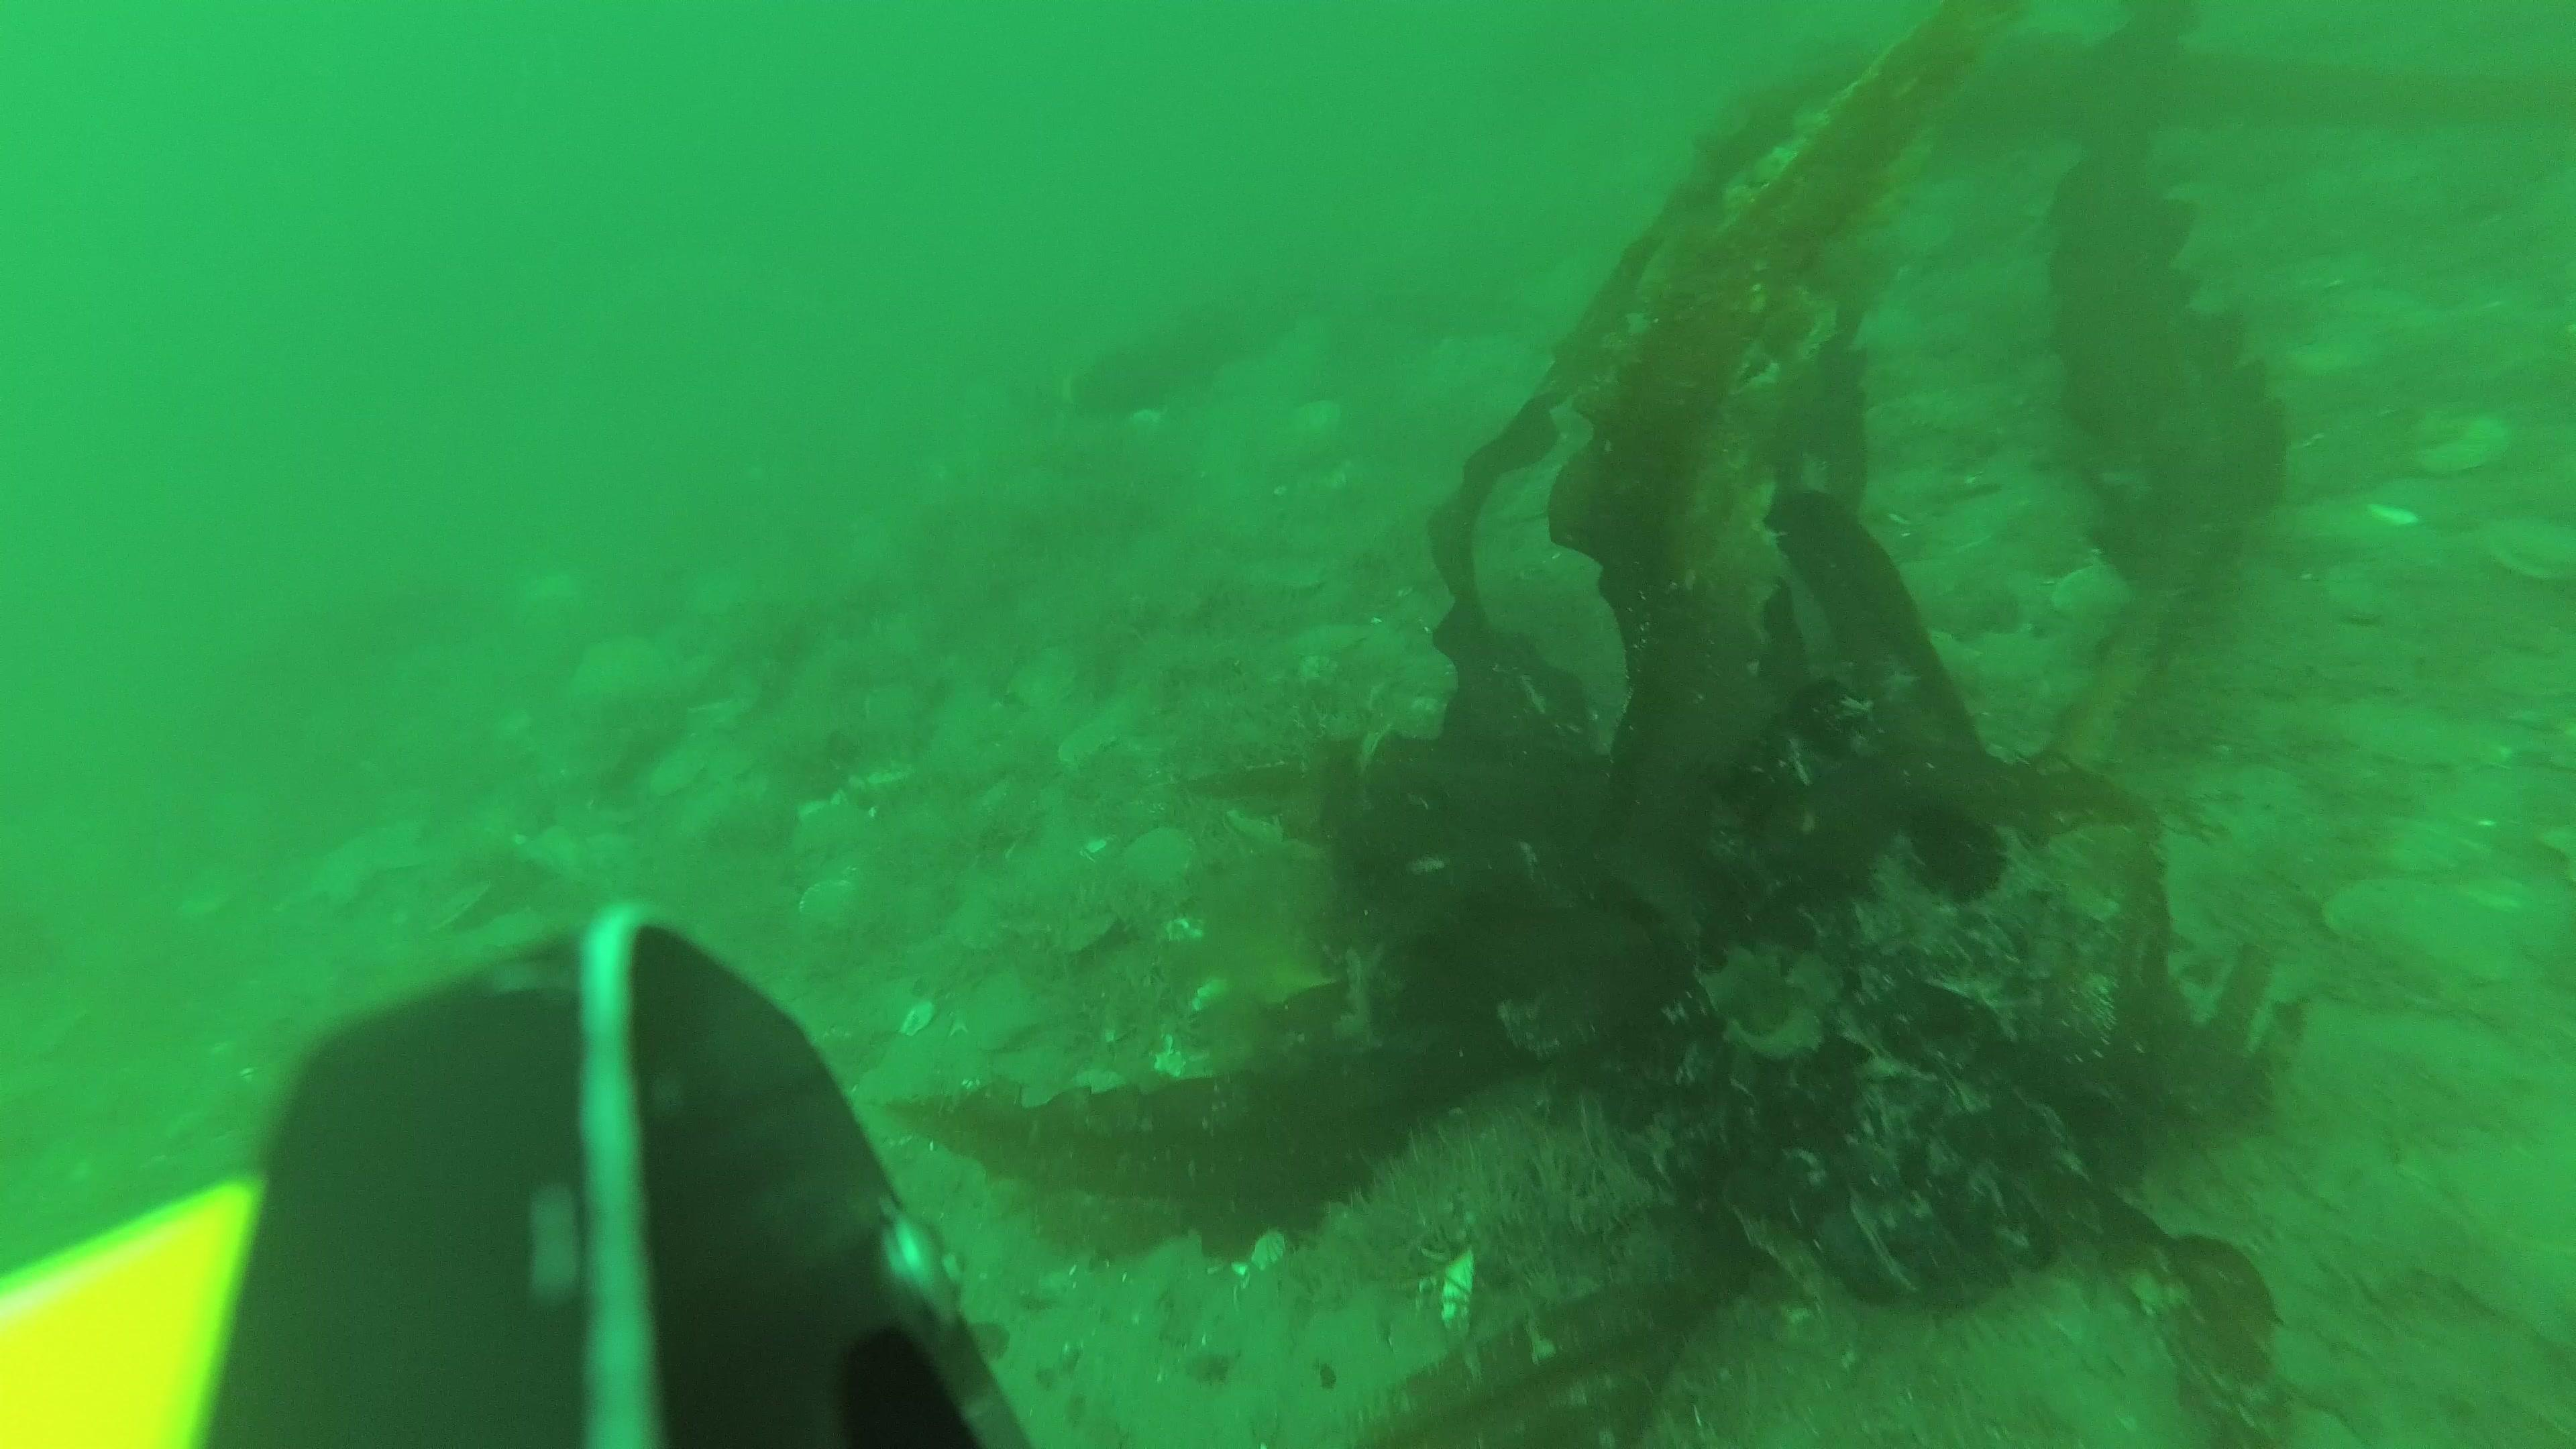scallop: (2330, 872, 2544, 998), (1108, 828, 1205, 934), (2413, 410, 2528, 483)
